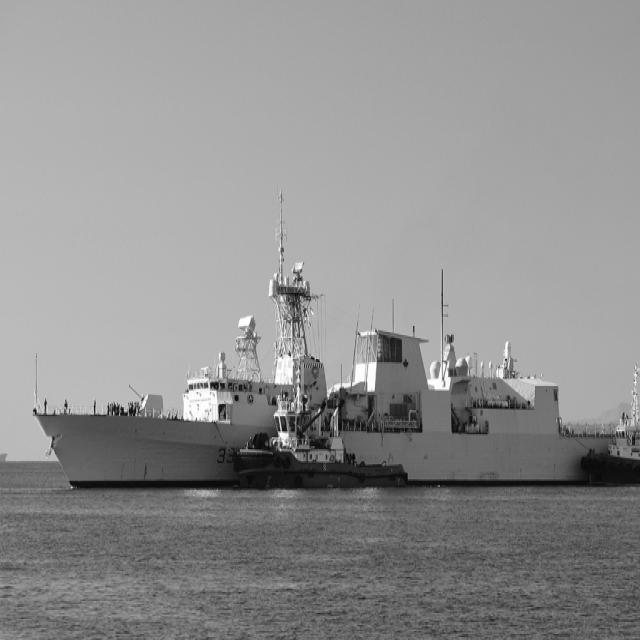Fragata: (28, 176, 640, 484)
